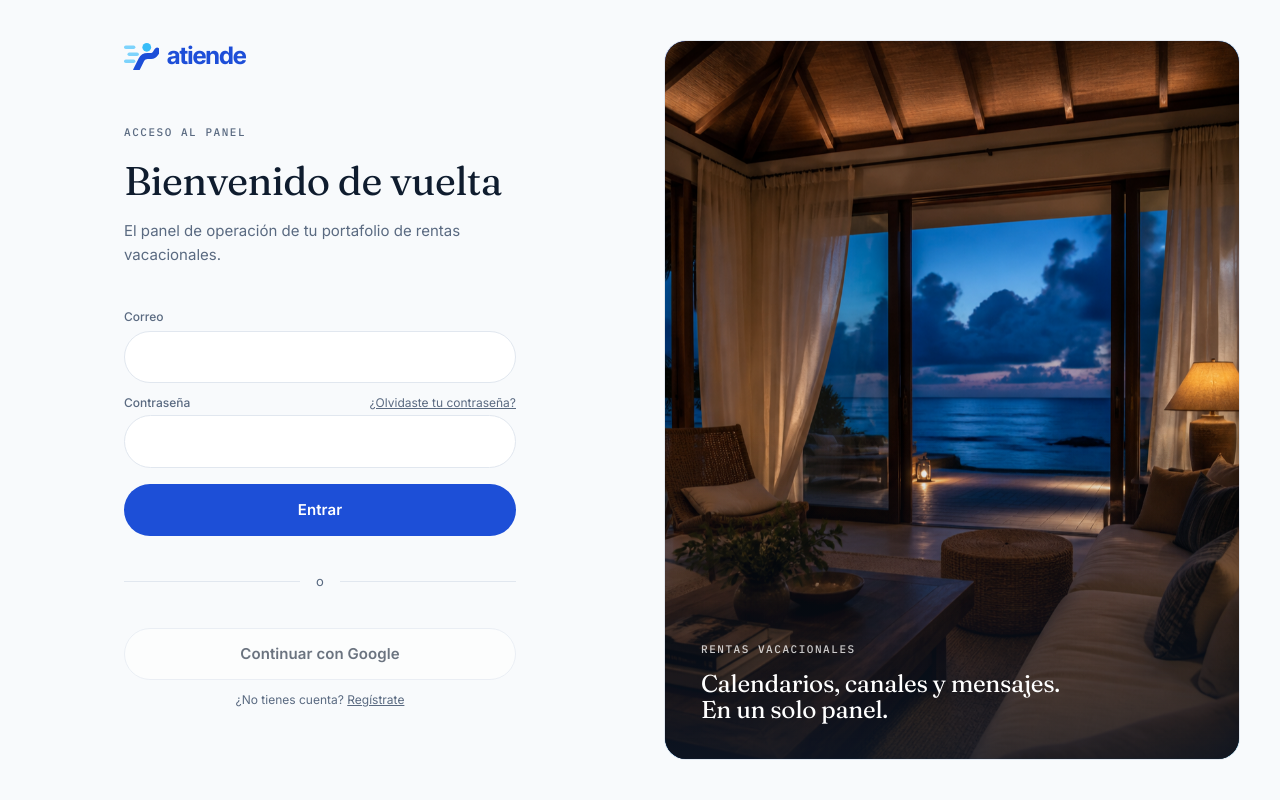
Scenario: LoginPage (Lote 3.2) › con MFA pendiente, muestra el paso 2 en vez de completar la sesión
Type "persona@ejemplo.test" into the field labelled "Correo" at [320, 357], box [124,331,516,383]
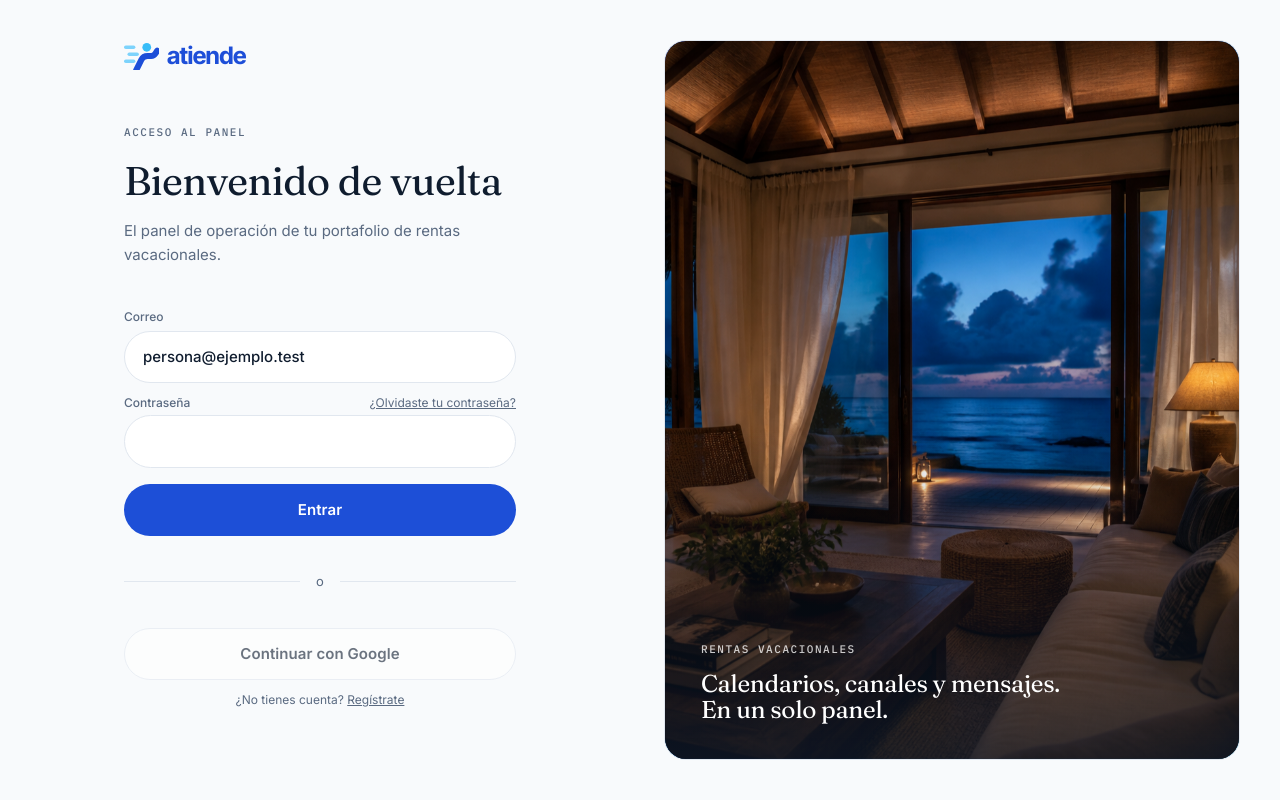
Type "clave-super-secreta-99" into the password field labelled "Contraseña" at [320, 441], box [124,415,516,468]
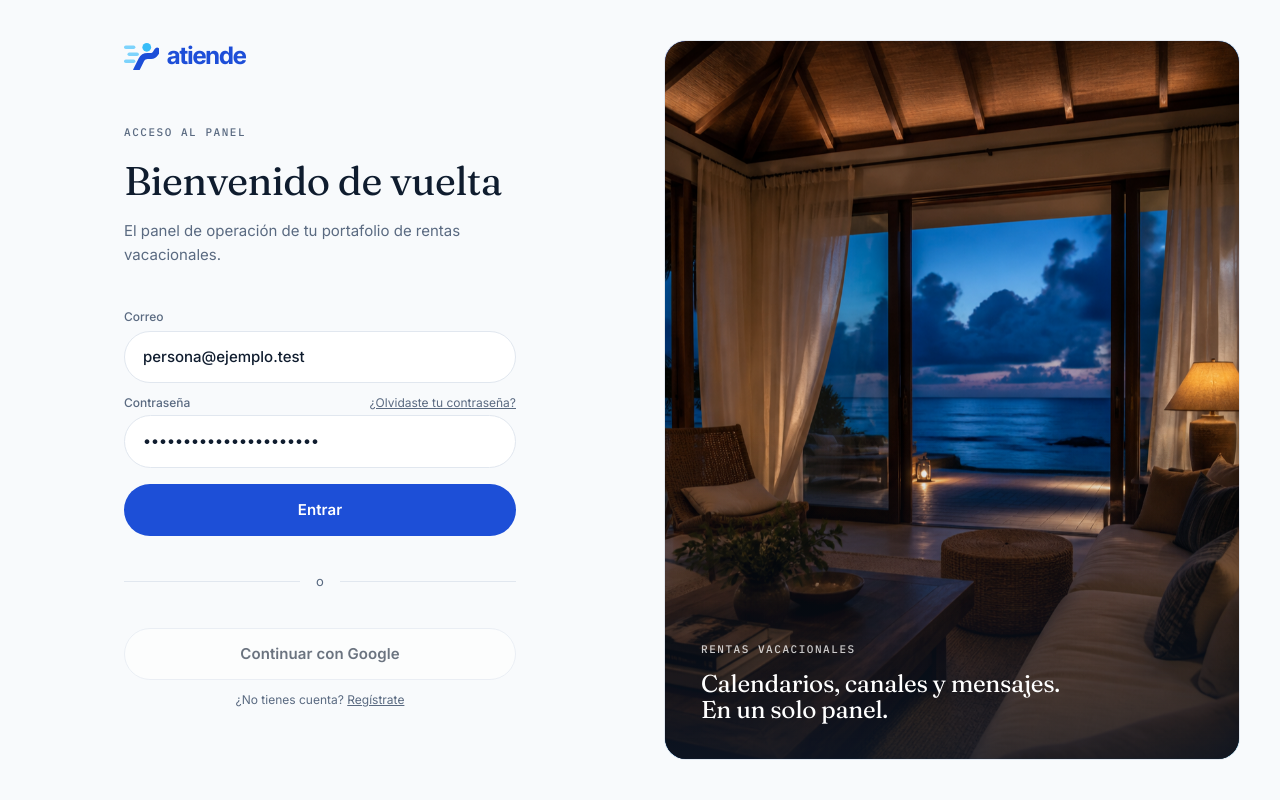
Click the button "Entrar" at [320, 510], box [124,484,516,536]
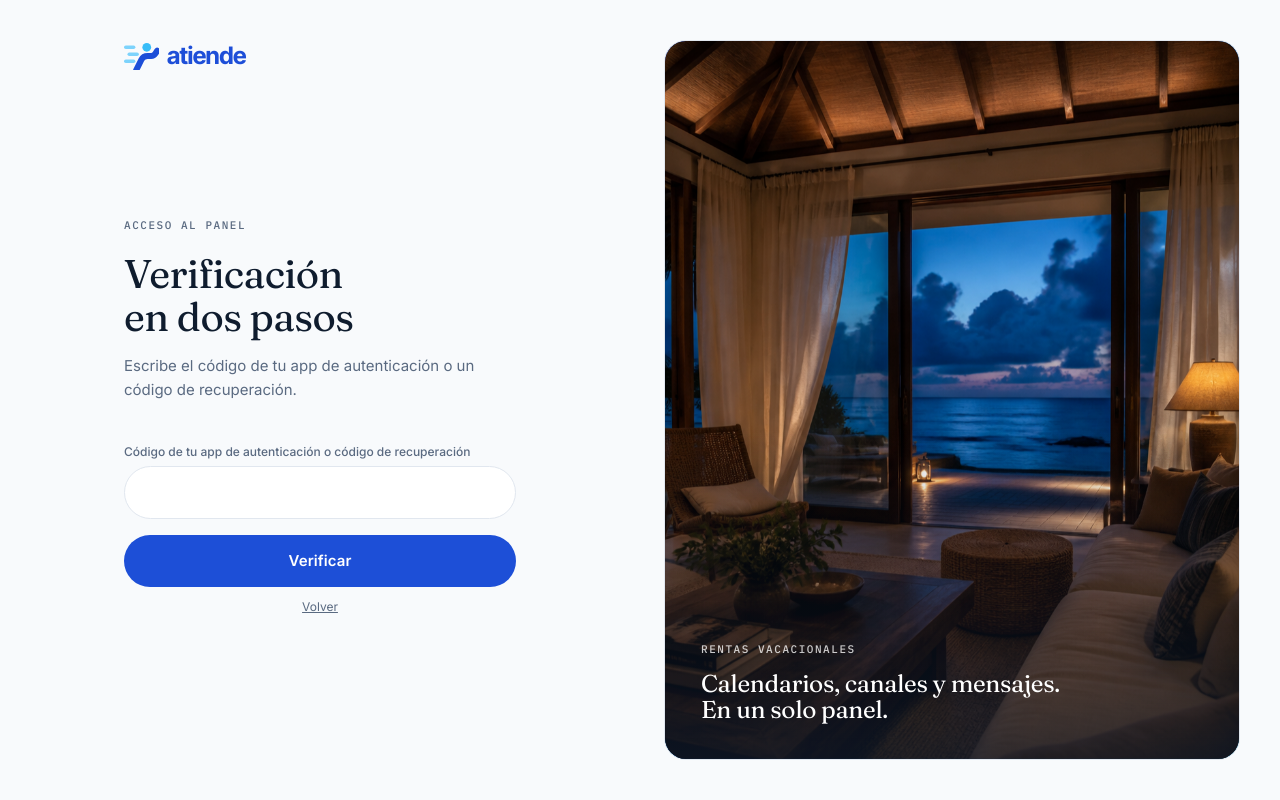
Expected: the field labelled "Código de tu app de autenticación o código de recuperación" is shown, [124,466,516,519]
Expected: the heading "Verificación en dos pasos" is shown, [124,249,353,341]
